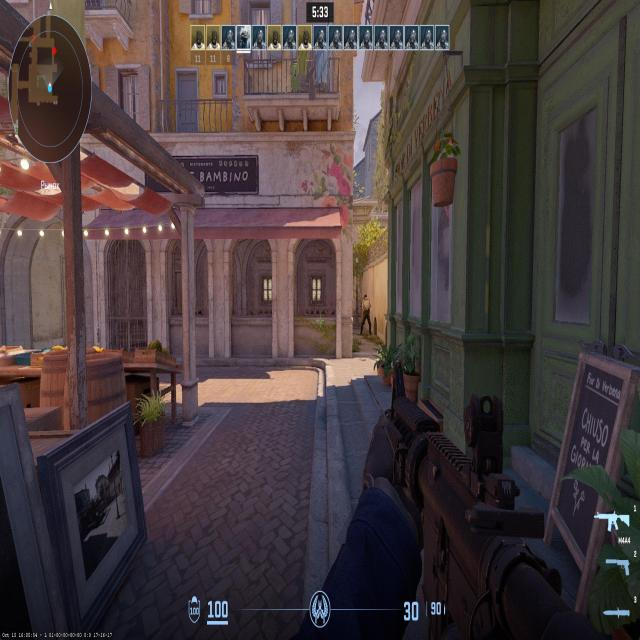T: (364, 294, 370, 334)
T_heat: (365, 295, 367, 302)
